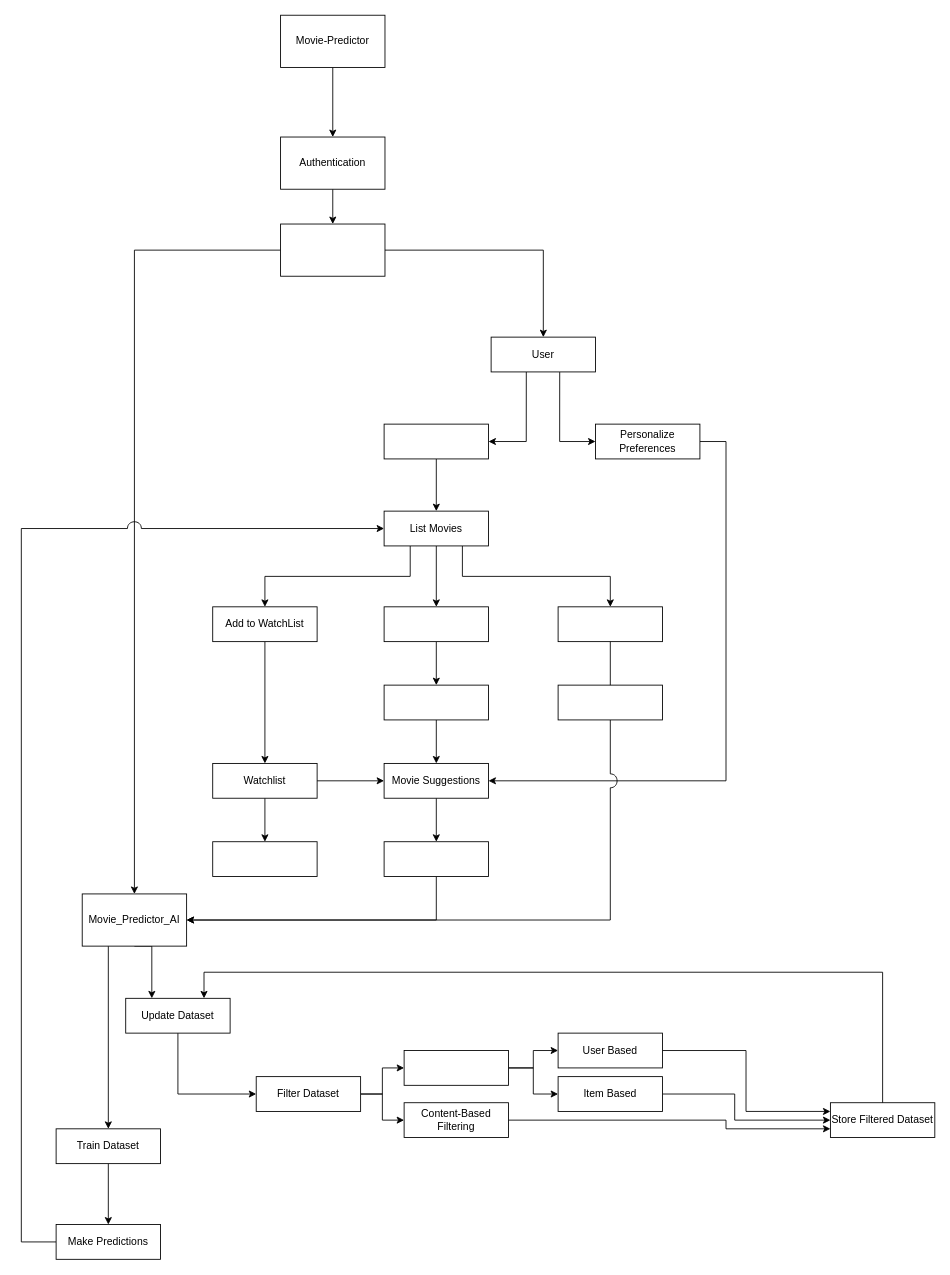
Image size: 950x1275. Some labels were removed from this diagram. The shapes that lost their labels are listed below. From the top down, each one's box as (x1, y1, x2, y2) in pixels, then its label:
(280, 223, 385, 276): OAuth API
(383, 423, 489, 459): Search Movies
(383, 606, 489, 642): Forum
(557, 606, 663, 642): Rating and Reviews
(383, 684, 489, 720): Create/Edit Comments
(557, 684, 663, 720): Create/Edit Rating & Reviews
(212, 841, 317, 877): Watch Reminder
(383, 841, 489, 877): Store Suggestions
(403, 1050, 509, 1085): Collaborative Filtering
